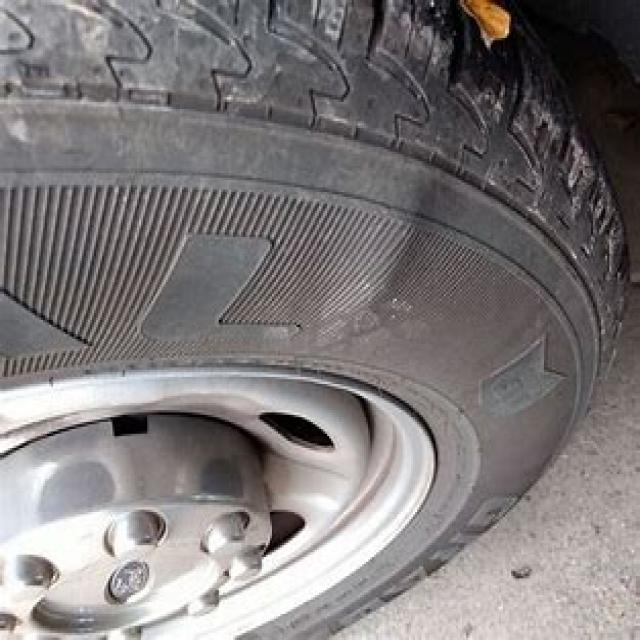Bulge: (310, 138, 438, 365)
